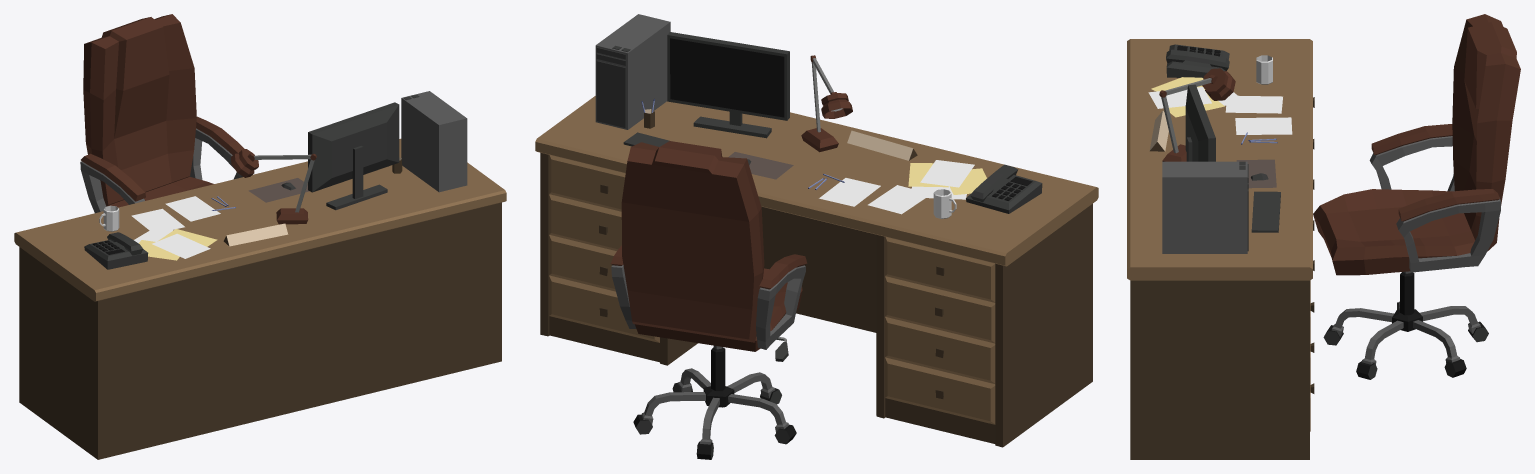
The model's file is DetectiveOfficeDesk.glb.
The picture shows the model from 3 angles, left to right: view 1: azimuth 30°, elevation 25°; view 2: azimuth 150°, elevation 25°; view 3: azimuth 270°, elevation 25°; orthographic projection. The views are drawn at different scales.
Parts seen in each view (by area): view 1: DetectiveOfficeDesk, presidentChair; view 2: DetectiveOfficeDesk, presidentChair; view 3: DetectiveOfficeDesk, presidentChair.
Boxes of the visible parts, box(x1,y1,x2,y2) form: DetectiveOfficeDesk: box(14, 91, 506, 459); presidentChair: box(80, 14, 244, 213); DetectiveOfficeDesk: box(535, 14, 1098, 447); presidentChair: box(610, 141, 807, 459); DetectiveOfficeDesk: box(1127, 39, 1314, 459); presidentChair: box(1313, 14, 1520, 379).
Size of the model in its own units: 2.16 by 1.36 by 1.57.
Materials: 1 (1 with a texture image).
